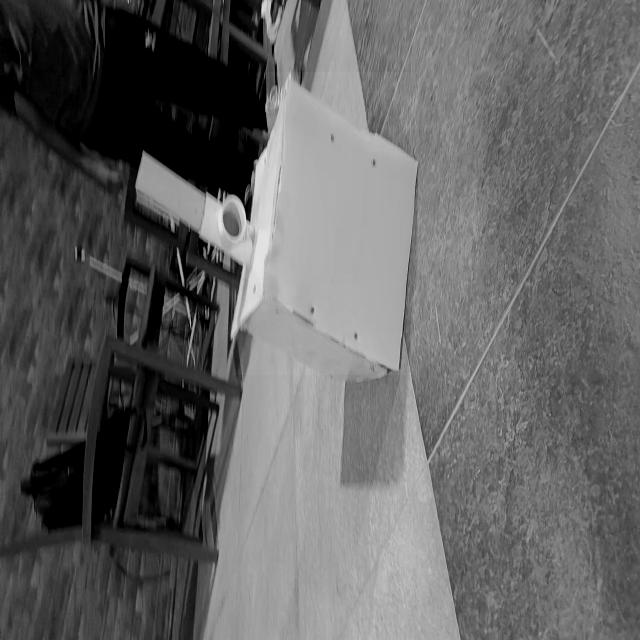Cube: (232, 72, 419, 375)
